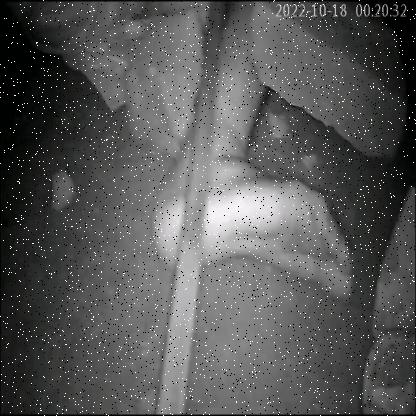leg: (138, 86, 359, 317)
